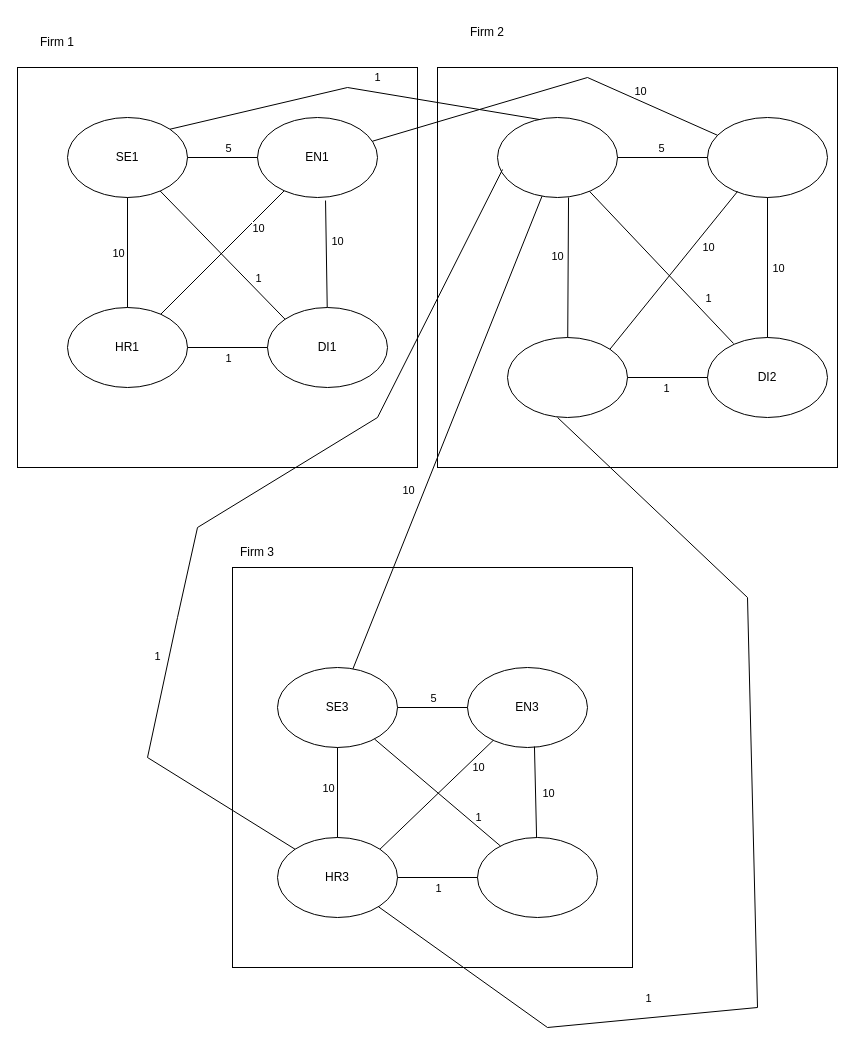
Some shapes in this 855 by 1046 pixel diagram are drawn without their labels. The shapes that lost their labels are listed below. From the top down, each one's box as (x1, y1, x2, y2) in pixels, then its label:
(496, 116, 618, 198): SE2
(706, 116, 828, 198): EN2
(506, 336, 628, 418): HR2
(476, 836, 598, 918): DI3
